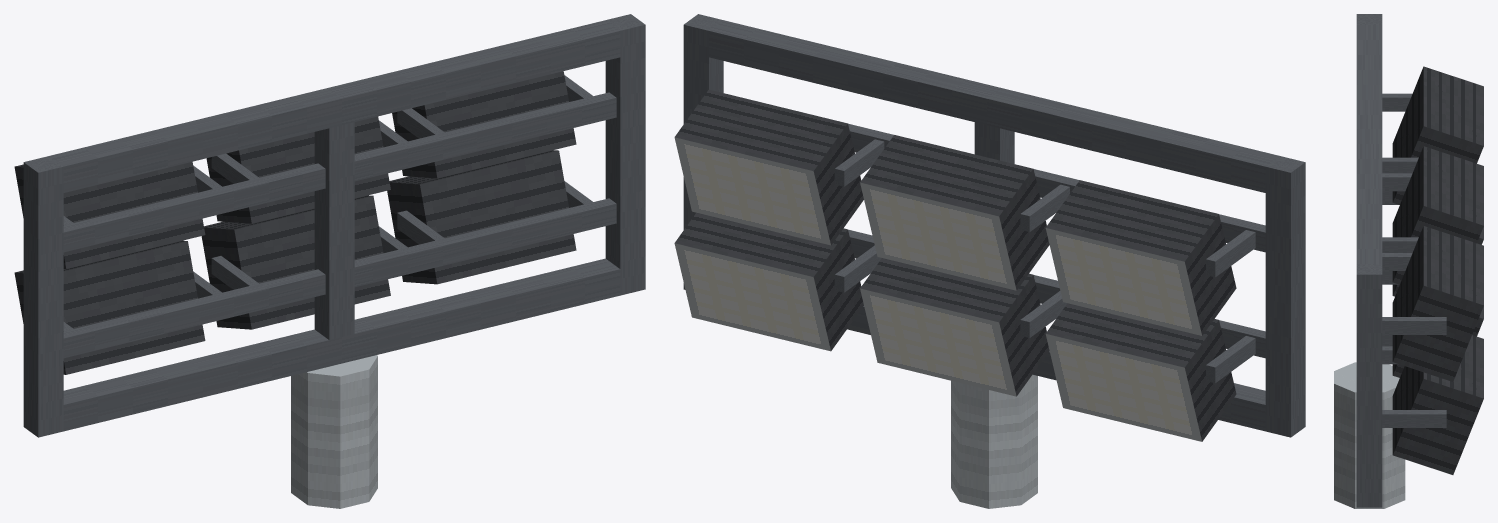
File: head_small_on.obj
3 renders of one model, left to right at view 1: azimuth 30°, elevation 25°; view 2: azimuth 150°, elevation 25°; view 3: azimuth 270°, elevation 25°, orthographic. The views are drawn at different scales.
Parts seen in each view (by area): view 1: head_small_on; view 2: head_small_on; view 3: head_small_on.
Part boxes in pixels (<box>): head_small_on: <box>14,14,645,508</box>; head_small_on: <box>674,14,1305,508</box>; head_small_on: <box>1334,14,1483,508</box>.
Bounding box in the file's own units: 3 × 1.88 × 0.7292.
